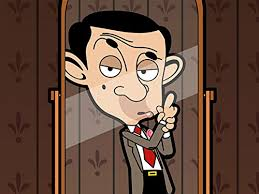mrbean: (65, 10, 187, 194)
